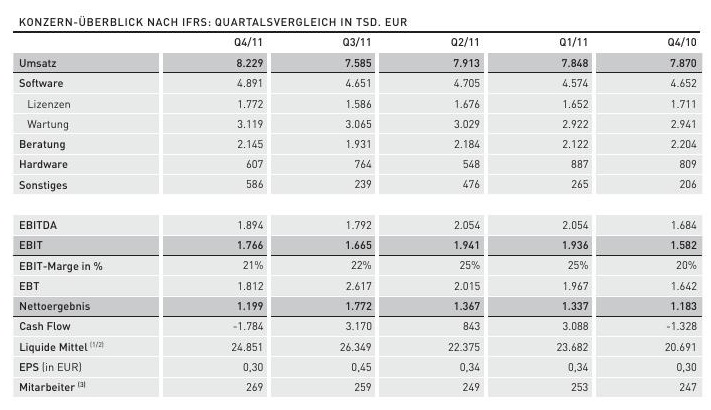table: (0, 0, 711, 410)
